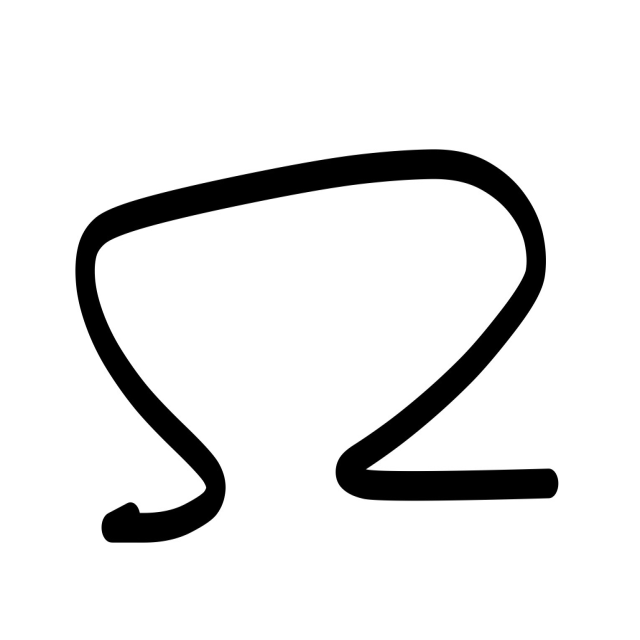ohms: (39, 73, 599, 563)
